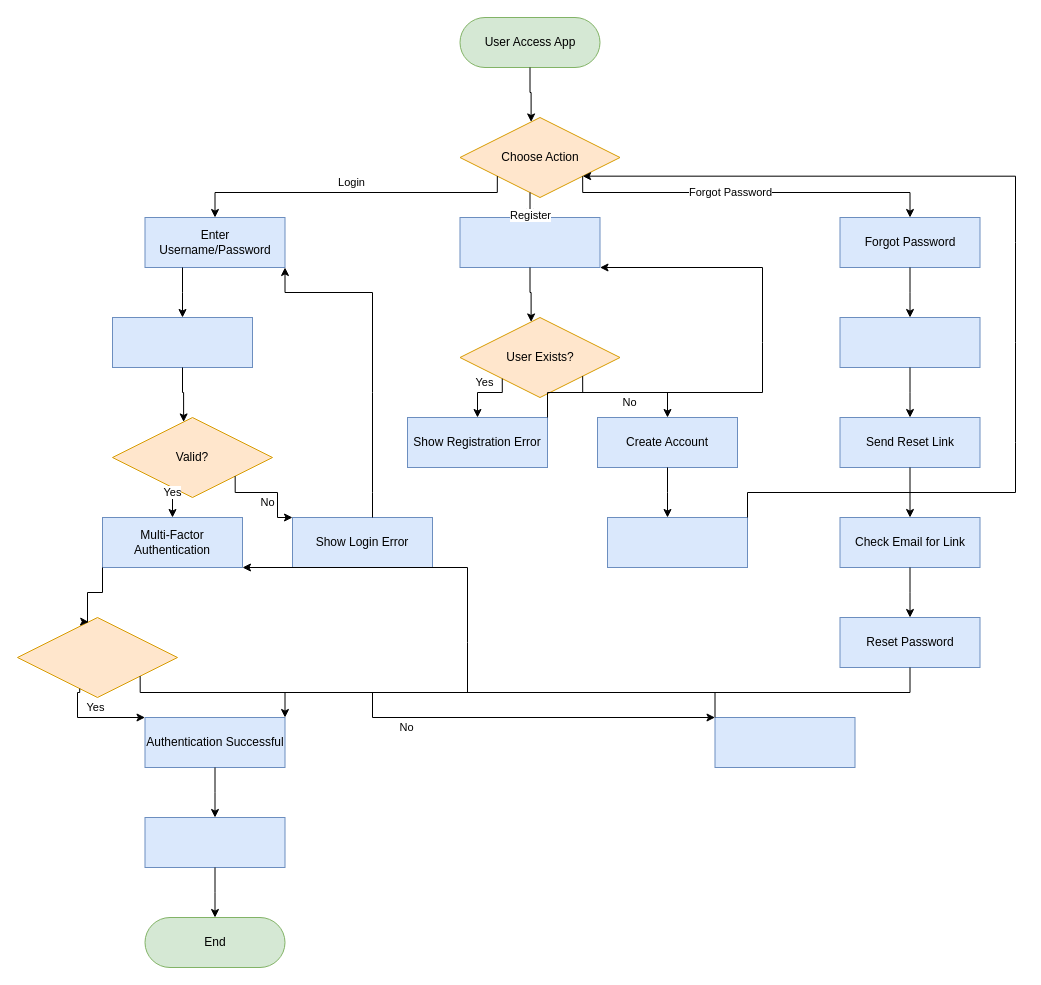
Some shapes in this 1041 by 985 pixel diagram are drawn without their labels. The centre of each missing label's shape, as x and y in pixels:
"Enter Email" belongs at (x=909, y=342).
"Enter Registration Details" belongs at (x=529, y=242).
"MFA Code Valid?" belongs at (x=97, y=657).
"Redirect to Dashboard" belongs at (x=214, y=842).
"Registration Successful" belongs at (x=677, y=542).
"Show MFA Error" belongs at (x=784, y=742).
"Validate Credentials" belongs at (x=182, y=342).
